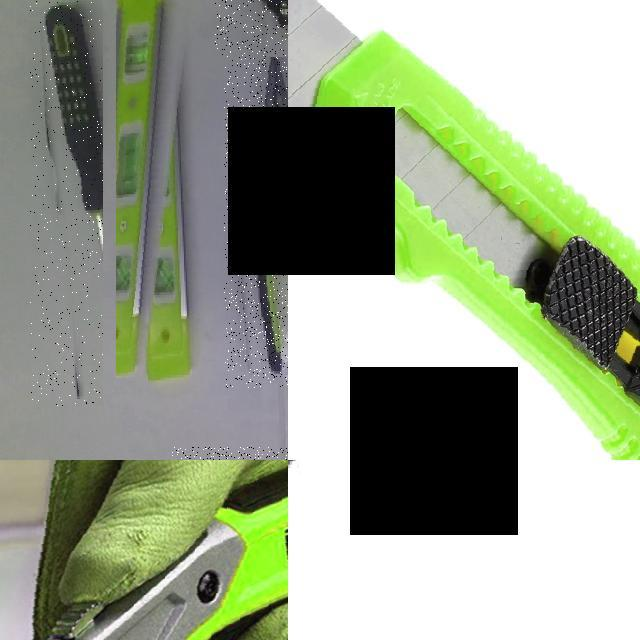estilete: (289, 0, 639, 458)
